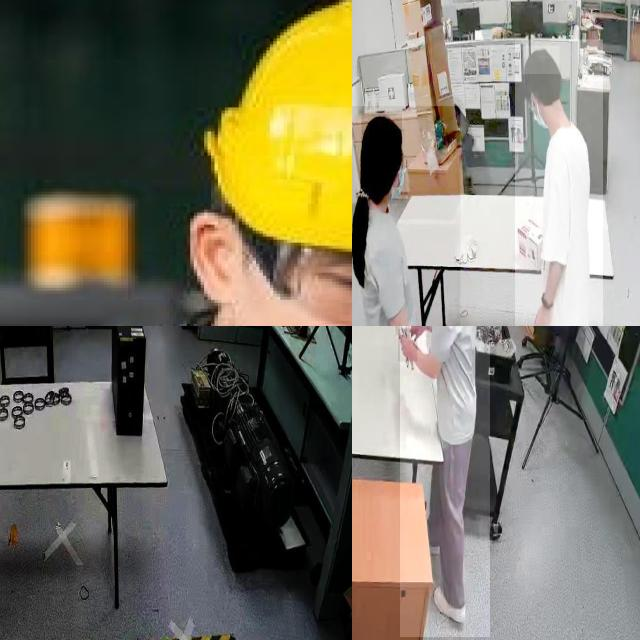face_mask: (383, 155, 407, 204)
glasses: (213, 205, 352, 326)
hand_noglove: (398, 328, 418, 362), (529, 303, 549, 326), (406, 326, 427, 341)
head_helmet: (195, 0, 352, 262)
head_nohelmet: (362, 114, 402, 144), (522, 46, 560, 75)
person: (88, 0, 352, 326), (399, 326, 490, 638), (514, 39, 603, 326), (352, 106, 460, 326)
shoes: (429, 580, 468, 627)
